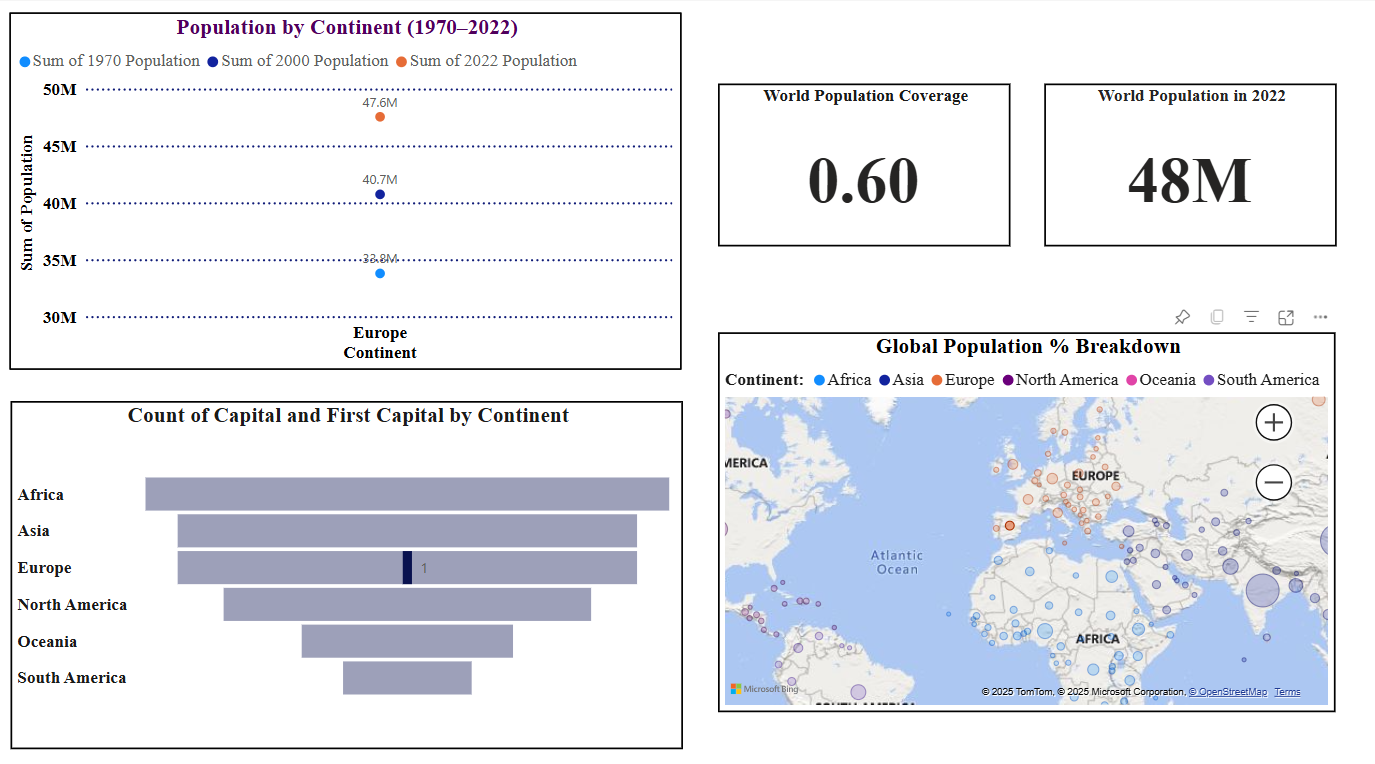

This screenshot's page, from the dashboard's own definition file:
{"tool":"powerbi","page":{"name":"Page 1","canvas":[1280,720],"ordinal":0},"visuals":[{"type":"lineChart","title":"Population by Continent (1970–2022)","fields":{"Y":["Sum(world_population.1970 Population)","Sum(world_population.2000 Population)","Sum(world_population.2022 Population)"],"Category":["world_population.Continent"]},"box":[34.3,11,627.1,333.4],"z":0},{"type":"map","title":"Global Population % Breakdown","fields":{"Category":["world_population.Country/Territory"],"Series":["world_population.Continent"],"Size":["Sum(world_population.World Population Percentage)"]},"box":[695.4,308.5,576,354.5],"z":2000},{"type":"card","title":"World Population in 2022","fields":{"Values":["Sum(world_population.2022 Population)"]},"box":[998.9,77.1,272.4,151.8],"z":3000},{"type":"card","title":"World Population Coverage","fields":{"Values":["Sum(world_population.World Population Percentage)"]},"box":[695.4,77.1,272.4,151.8],"z":4000},{"type":"funnel","fields":{"Category":["world_population.Continent"],"Y":["CountNonNull(world_population.Capital)"]},"box":[34.8,373.2,627,324.7],"z":5000}]}

Visuals, with their boxes in screenshot pixels (x1, y1, x2, y2), scaled from the page's 1280x720 canvas onto the 1375x764 screenshot:
"Population by Continent (1970–2022)" lineChart: (37, 12, 710, 365)
"Global Population % Breakdown" map: (747, 327, 1366, 704)
"World Population in 2022" card: (1073, 82, 1366, 243)
"World Population Coverage" card: (747, 82, 1040, 243)
funnel - world_population.Continent x CountNonNull(world_population.Capital): (37, 396, 711, 741)
